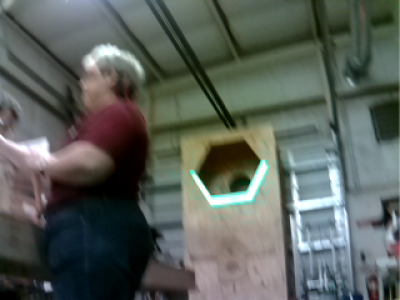target: (190, 159, 270, 207)
